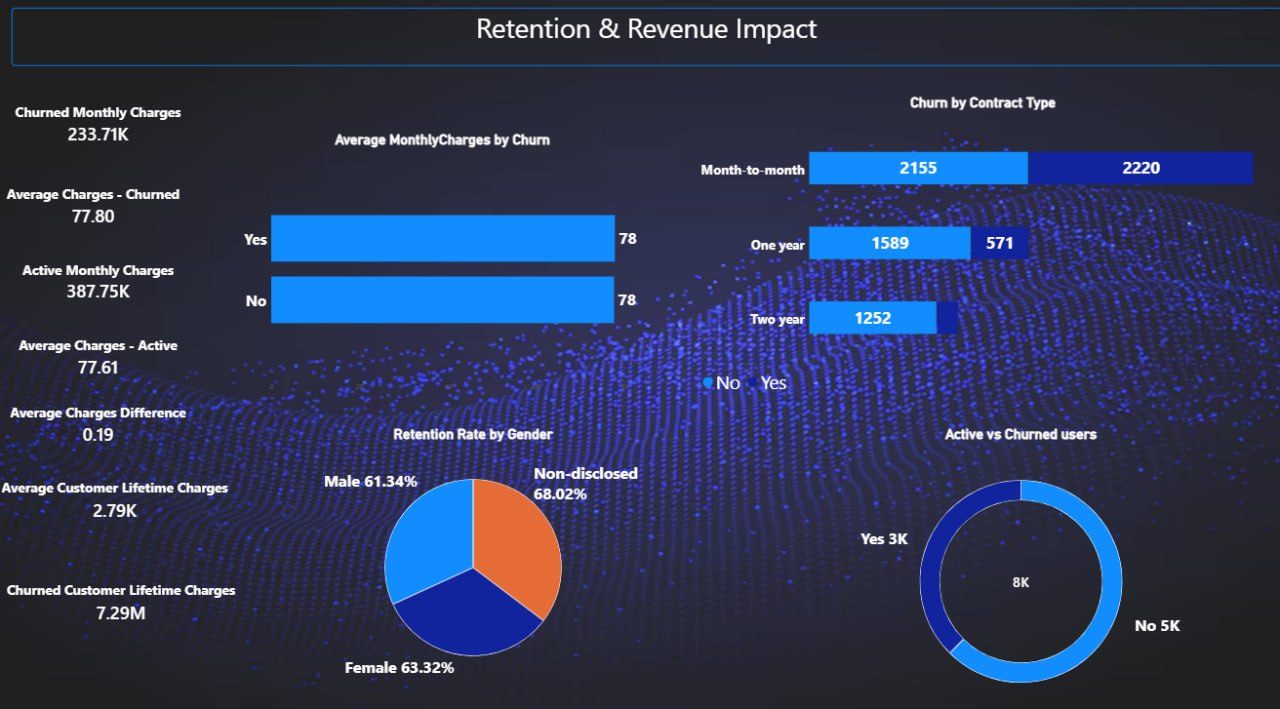

This screenshot's page, from the dashboard's own definition file:
{"tool":"powerbi","page":{"name":"Page 4","canvas":[2560,1440],"ordinal":3},"visuals":[{"type":"textbox","box":[45.8,26.5,2514.2,115.8],"z":0},{"type":"cardVisual","fields":{"Data":["DateTable.Churned Monthly Charges"]},"box":[9.7,183.4,415,149.6],"z":1000},{"type":"cardVisual","fields":{"Data":["DateTable.Active Monthly Charges"]},"box":[9.7,494.6,415,149.6],"z":2000},{"type":"cardVisual","fields":{"Data":["DateTable.Average Charges - Active"]},"box":[9.7,644.2,415,149.6],"z":3000},{"type":"cardVisual","fields":{"Data":["DateTable.Average Charges - Churned"]},"box":[0,345,415,149.6],"z":4000},{"type":"cardVisual","fields":{"Data":["DateTable.Average Charges Difference"]},"box":[10.3,775.9,415,149.6],"z":5000},{"type":"cardVisual","fields":{"Data":["DateTable.Average Customer Lifetime Charges"]},"box":[10.3,925.9,481.1,150],"z":6000},{"type":"cardVisual","fields":{"Data":["DateTable.Churned Customer Lifetime Charges"]},"box":[10.3,1130.3,506.9,150],"z":7000},{"type":"donutChart","title":"Active vs Churned users","fields":{"Category":["customer_churn_dataset.Churn"],"Y":["CountNonNull(customer_churn_dataset.CustomerID)"]},"box":[1523.8,840.4,1036.8,599.6],"z":8000},{"type":"clusteredBarChart","title":"Average  MonthlyCharges by Churn","fields":{"Category":["customer_churn_dataset.Churn"],"Y":["Avg(customer_churn_dataset.MonthlyCharges)"]},"box":[489.8,258.2,818,550.1],"z":9000},{"type":"barChart","title":"Churn by Contract Type","fields":{"Category":["customer_churn_dataset.Contract"],"Series":["customer_churn_dataset.Churn"],"Y":["Count(customer_churn_dataset.CustomerID)"]},"box":[1392.8,183.3,1152,625.7],"z":10000},{"type":"pieChart","fields":{"Category":["customer_churn_dataset.Gender"],"Y":["customer_churn_dataset.Retention Rate"]},"box":[571.9,839.7,775,544.6],"z":10001}]}

Visuals, with their boxes in screenshot pixels (x1, y1, x2, y2), scaled from the page's 2560x1440 canvas onto the 1280x709 screenshot:
textbox: x1=23 y1=13 x2=1279 y2=70
cardVisual - DateTable.Churned Monthly Charges: x1=5 y1=90 x2=212 y2=164
cardVisual - DateTable.Active Monthly Charges: x1=5 y1=244 x2=212 y2=317
cardVisual - DateTable.Average Charges - Active: x1=5 y1=317 x2=212 y2=391
cardVisual - DateTable.Average Charges - Churned: x1=0 y1=170 x2=208 y2=244
cardVisual - DateTable.Average Charges Difference: x1=5 y1=382 x2=213 y2=456
cardVisual - DateTable.Average Customer Lifetime Charges: x1=5 y1=456 x2=246 y2=530
cardVisual - DateTable.Churned Customer Lifetime Charges: x1=5 y1=557 x2=259 y2=630
"Active vs Churned users" donutChart: x1=762 y1=414 x2=1279 y2=708
"Average  MonthlyCharges by Churn" clusteredBarChart: x1=245 y1=127 x2=654 y2=398
"Churn by Contract Type" barChart: x1=696 y1=90 x2=1272 y2=398
pieChart - customer_churn_dataset.Gender x customer_churn_dataset.Retention Rate: x1=286 y1=413 x2=673 y2=682
